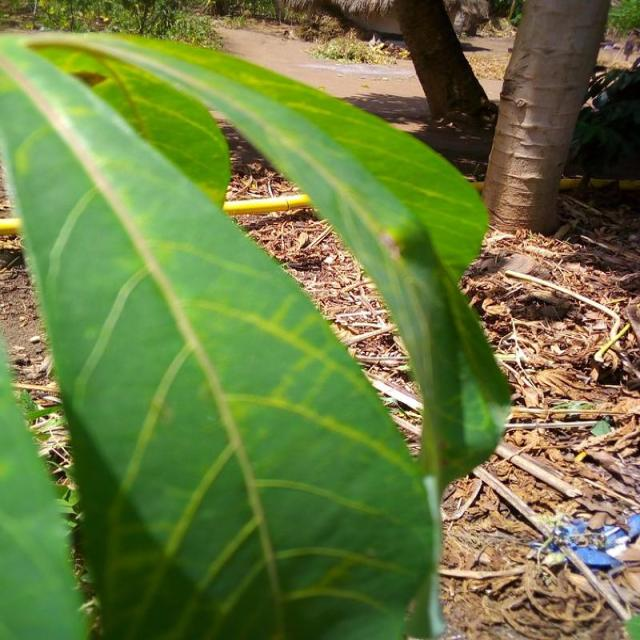cassava leaf: (0, 29, 508, 638)
